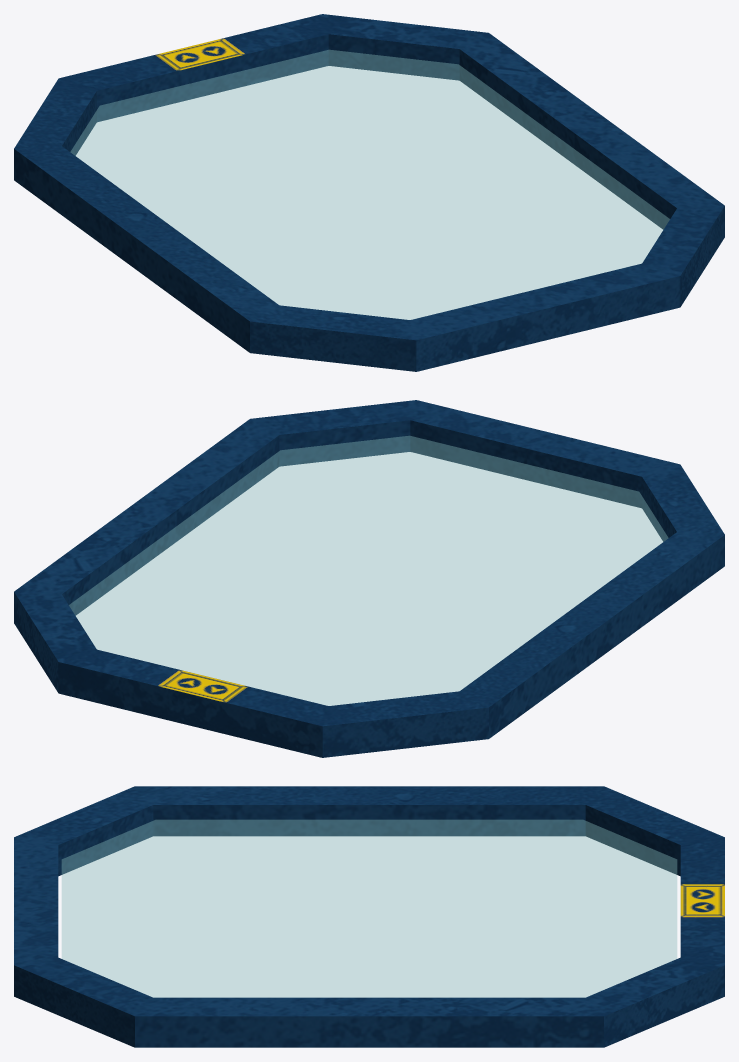
Rendered from Elevator.glb.
The picture shows the model from 3 angles, top to bottom: view 1: azimuth 30°, elevation 25°; view 2: azimuth 150°, elevation 25°; view 3: azimuth 270°, elevation 25°; orthographic projection.
Parts seen in each view (by area): view 1: Elevator; view 2: Elevator; view 3: Elevator.
Part boxes in pixels (x1=…): Elevator: x1=14, y1=14, x2=724, y2=371; Elevator: x1=14, y1=400, x2=724, y2=757; Elevator: x1=14, y1=786, x2=724, y2=1047.
Size of what is drawn, in the model's own units: 1.78 by 0.113 by 2.32.
2 materials, 1 textured.
